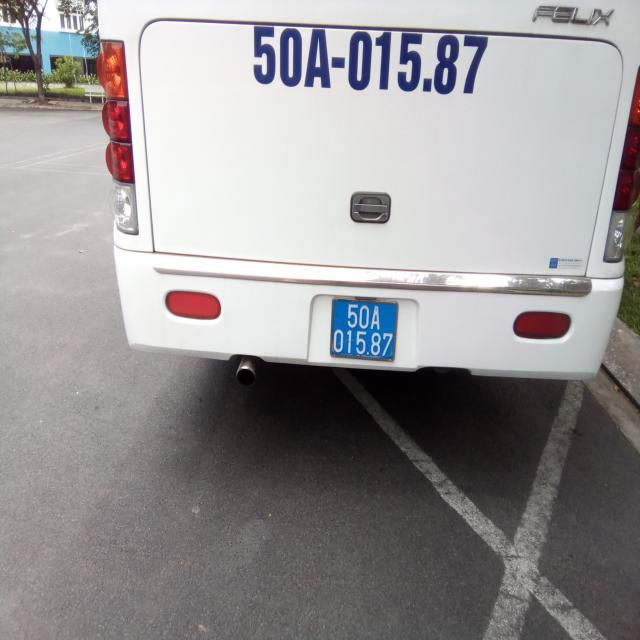bien_xanh: (327, 298, 398, 362)
